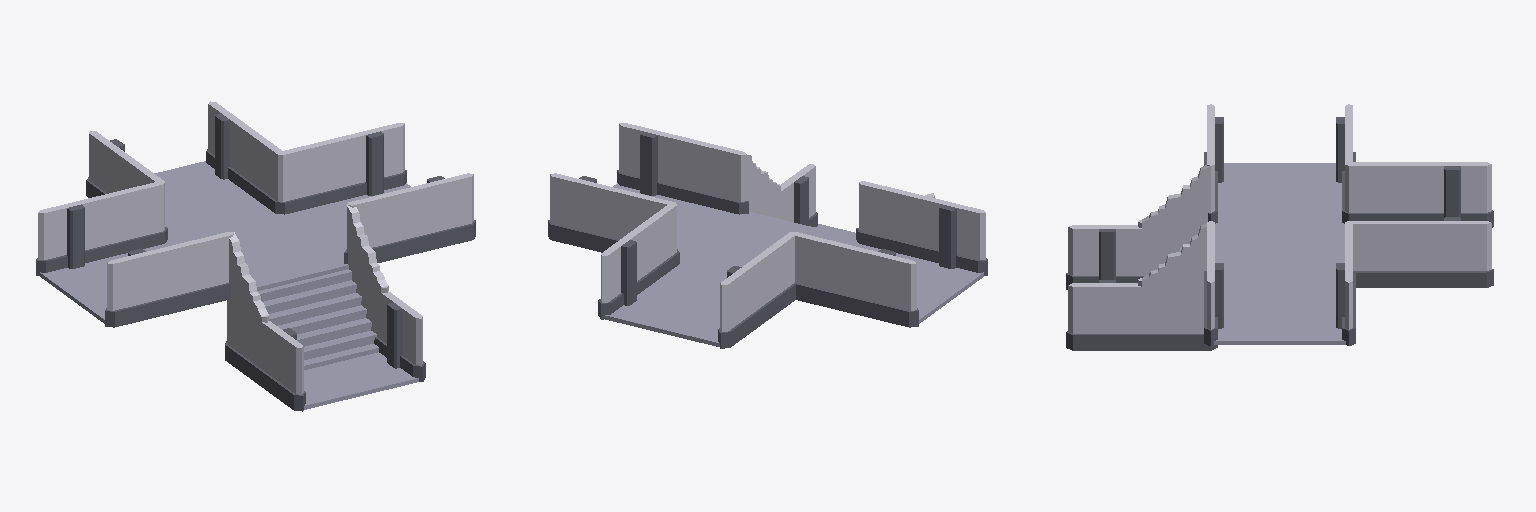
The model's file is intersection_4way_stair_04.obj.
3 views of the same model, side by side, from view 1: azimuth 30°, elevation 25°; view 2: azimuth 150°, elevation 25°; view 3: azimuth 270°, elevation 25° (orthographic).
Parts seen in each view (by area): view 1: stairs_01_131, floor_01_129, floor_01_151, wall_02_144, wall_02_147, wall_02_143, wall_02_148, wall_01_140, wall_01_139, wall_01_142, floor_04_138, wall_01_141 (+8 smaller); view 2: floor_01_151, wall_02_147, floor_01_129, wall_02_144, wall_02_148, wall_01_141, wall_02_143, wall_01_142, wall_01_140, wall_02_155, wall_02_156, floor_01_135 (+6 smaller); view 3: stairs_01_131, floor_01_135, floor_01_133, floor_01_129, wall_02_150, wall_02_156, wall_01_153, wall_02_155, wall_02_146, wall_01_154, wall_02_143, wall_02_148 (+2 smaller).
Boxes of the visible parts, x1=… form: stairs_01_131: x1=225, y1=205, x2=388, y2=384; floor_01_129: x1=167, y1=212, x2=348, y2=290; floor_01_151: x1=154, y1=161, x2=276, y2=241; wall_02_144: x1=105, y1=246, x2=173, y2=327; wall_02_147: x1=36, y1=196, x2=105, y2=275; wall_02_143: x1=407, y1=173, x2=475, y2=253; wall_02_148: x1=340, y1=123, x2=406, y2=199; wall_01_140: x1=101, y1=181, x2=167, y2=257; wall_01_139: x1=275, y1=137, x2=344, y2=213; wall_01_142: x1=167, y1=232, x2=233, y2=312; floor_04_138: x1=304, y1=352, x2=418, y2=409; wall_01_141: x1=344, y1=188, x2=414, y2=263; floor_01_151: x1=605, y1=262, x2=726, y2=346; wall_02_147: x1=850, y1=246, x2=918, y2=327; floor_01_129: x1=678, y1=212, x2=861, y2=277; wall_02_144: x1=919, y1=196, x2=987, y2=275; wall_02_148: x1=548, y1=173, x2=616, y2=252; wall_01_141: x1=679, y1=137, x2=748, y2=214; wall_02_143: x1=617, y1=123, x2=683, y2=199; wall_01_142: x1=856, y1=181, x2=922, y2=257; wall_01_140: x1=790, y1=232, x2=856, y2=312; wall_02_155: x1=718, y1=257, x2=764, y2=348; wall_02_156: x1=598, y1=228, x2=644, y2=319; floor_01_135: x1=852, y1=244, x2=983, y2=323; stairs_01_131: x1=1138, y1=164, x2=1217, y2=350; floor_01_135: x1=1215, y1=163, x2=1344, y2=224; floor_01_133: x1=1214, y1=279, x2=1345, y2=344; floor_01_129: x1=1215, y1=221, x2=1344, y2=282; wall_02_150: x1=1066, y1=280, x2=1142, y2=350; wall_02_156: x1=1416, y1=217, x2=1493, y2=287; wall_01_153: x1=1345, y1=221, x2=1420, y2=287; wall_02_155: x1=1415, y1=162, x2=1493, y2=227; wall_02_146: x1=1066, y1=225, x2=1141, y2=289; wall_01_154: x1=1344, y1=162, x2=1421, y2=220; wall_02_143: x1=1204, y1=251, x2=1223, y2=345; wall_02_148: x1=1336, y1=252, x2=1355, y2=345.
Bounding box in the file's own units: 6.21 × 2 × 6.21.